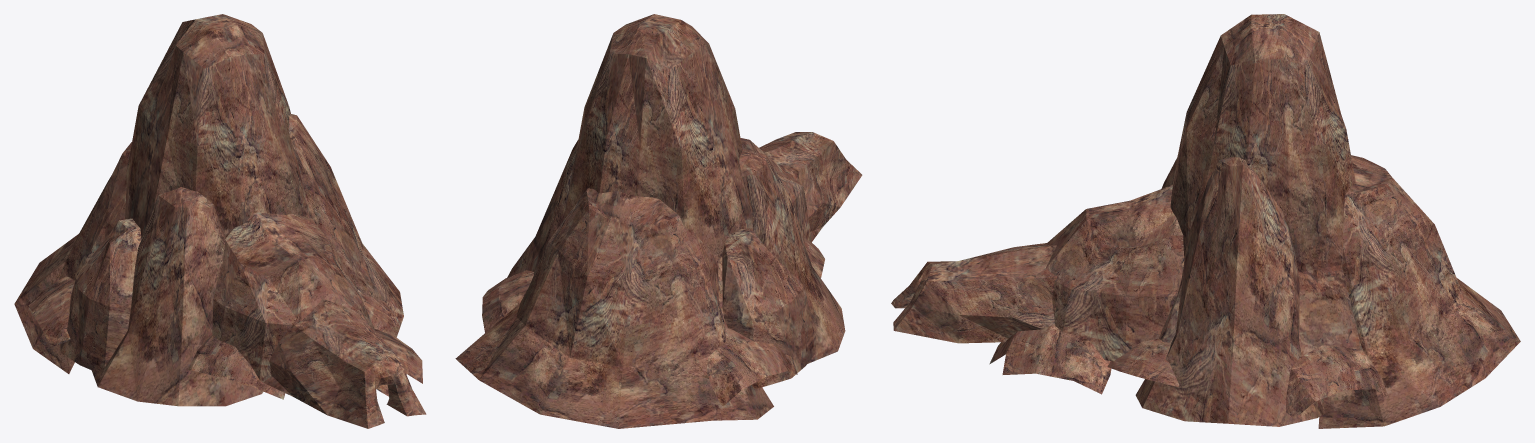
The model's file is thm_dath_night_sister_stronghold_r0_mesh_l1.fbx.
The picture shows the model from 3 angles, left to right: view 1: azimuth 30°, elevation 25°; view 2: azimuth 150°, elevation 25°; view 3: azimuth 270°, elevation 25°; orthographic projection. The views are drawn at different scales.
Parts seen in each view (by area): view 1: mesh_node; view 2: mesh_node; view 3: mesh_node.
Boxes of the visible parts, x1,y1,x2,y2 form: mesh_node: [14, 14, 426, 428]; mesh_node: [455, 14, 862, 428]; mesh_node: [891, 14, 1520, 428].
Bounding box in the file's own units: 65.1 × 65.97 × 105.
Materials: 1 (1 with a texture image).
